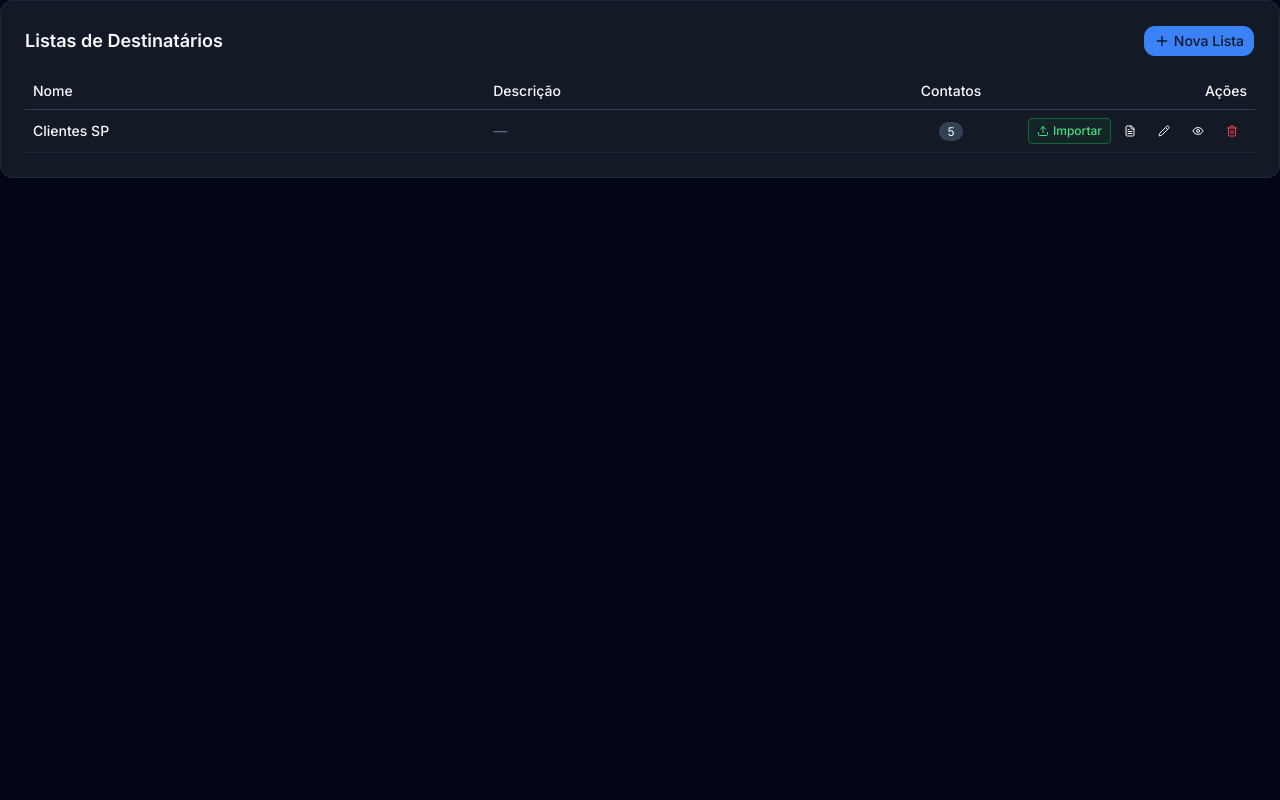
Test: ListasTab › abre edição e destaca os emails repetidos
This screenshot has width=1280, height=800.
What coordinates should you click on to do the following:
click the button named "Editar lista Clientes SP"
I would click on:
 (1164, 131)
Its box is [1149,119,1179,143].
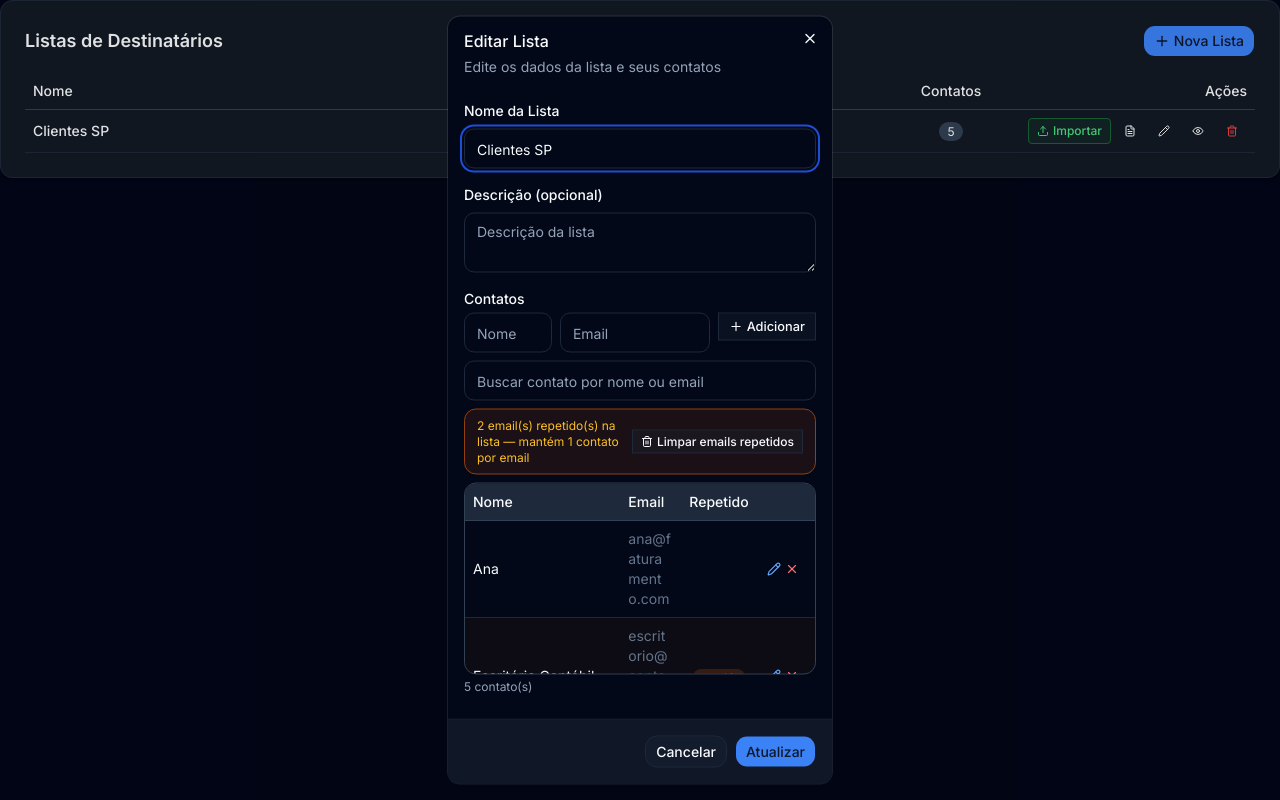
Now the heading "Editar Lista" is shown, box [464,30,549,50]
Now the text "Ana" is shown, box [465,520,620,617]
Now the text "2 email(s) repetido(s) na lista — mantém 1 contato por email" is shown, box [477,418,624,466]
